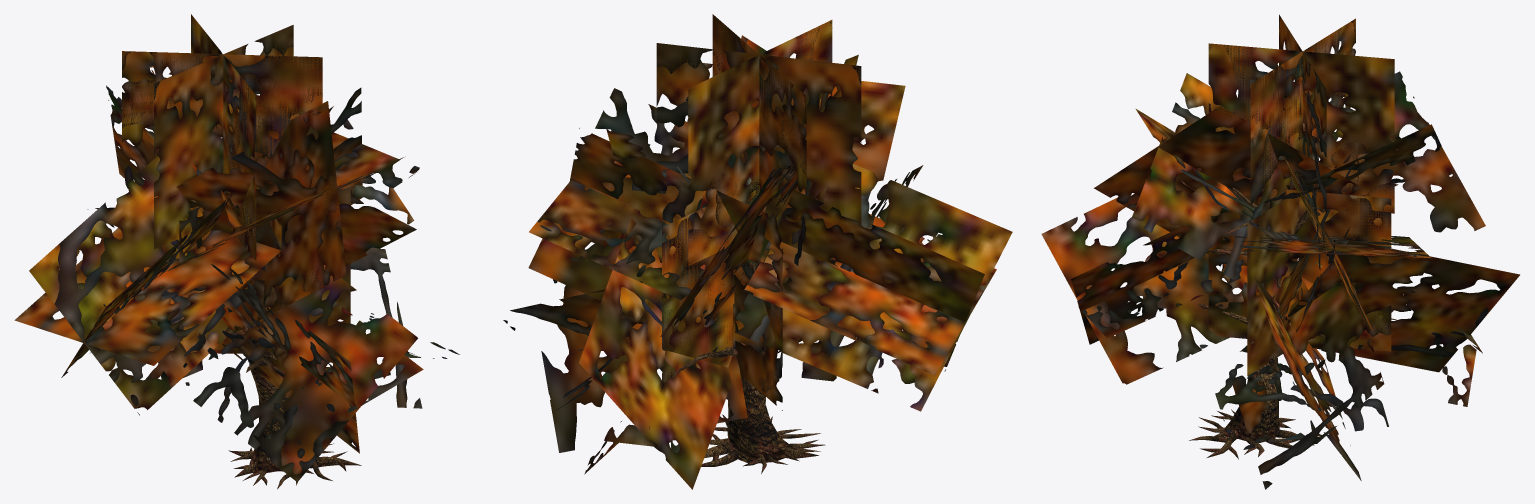
Rendered from tro.gltf.
3 renders of one model, left to right at view 1: azimuth 30°, elevation 25°; view 2: azimuth 150°, elevation 25°; view 3: azimuth 270°, elevation 25°, orthographic. The views are drawn at different scales.
Visible parts, largest first — view 1: tr2_prim1_51_StaticMeshComponent0, tr2_prim0_53_StaticMeshComponent0, tr2_prim2_49_StaticMeshComponent0; view 2: tr2_prim1_51_StaticMeshComponent0, tr2_prim0_53_StaticMeshComponent0, tr2_prim2_49_StaticMeshComponent0; view 3: tr2_prim1_51_StaticMeshComponent0, tr2_prim0_53_StaticMeshComponent0, tr2_prim2_49_StaticMeshComponent0.
Part boxes in pixels (x1,y1,x2,y2): tr2_prim1_51_StaticMeshComponent0: [14, 14, 459, 482]; tr2_prim0_53_StaticMeshComponent0: [175, 291, 289, 473]; tr2_prim2_49_StaticMeshComponent0: [228, 443, 361, 489]; tr2_prim1_51_StaticMeshComponent0: [503, 14, 1012, 489]; tr2_prim0_53_StaticMeshComponent0: [671, 260, 795, 463]; tr2_prim2_49_StaticMeshComponent0: [701, 414, 825, 473]; tr2_prim1_51_StaticMeshComponent0: [1041, 14, 1519, 489]; tr2_prim0_53_StaticMeshComponent0: [1197, 165, 1399, 443]; tr2_prim2_49_StaticMeshComponent0: [1189, 409, 1314, 459].
Bounding box in the file's own units: 11.64 × 10.4 × 12.13.
Materials: 2 (2 with a texture image).
